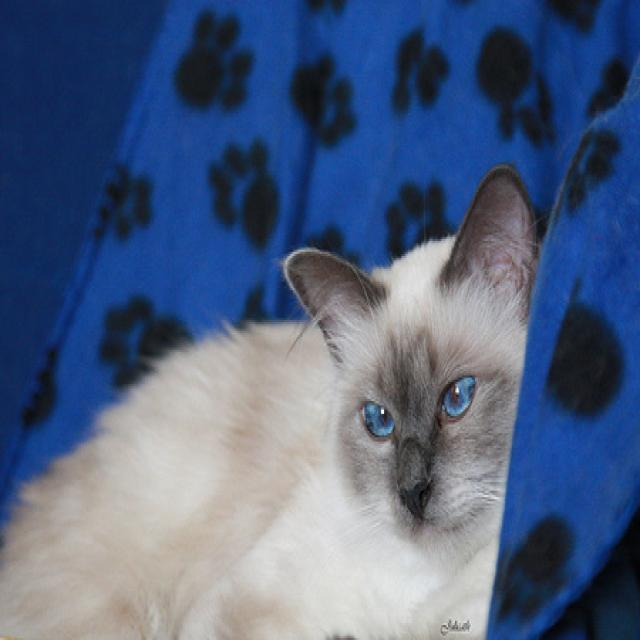Birman: (0, 162, 540, 640)
